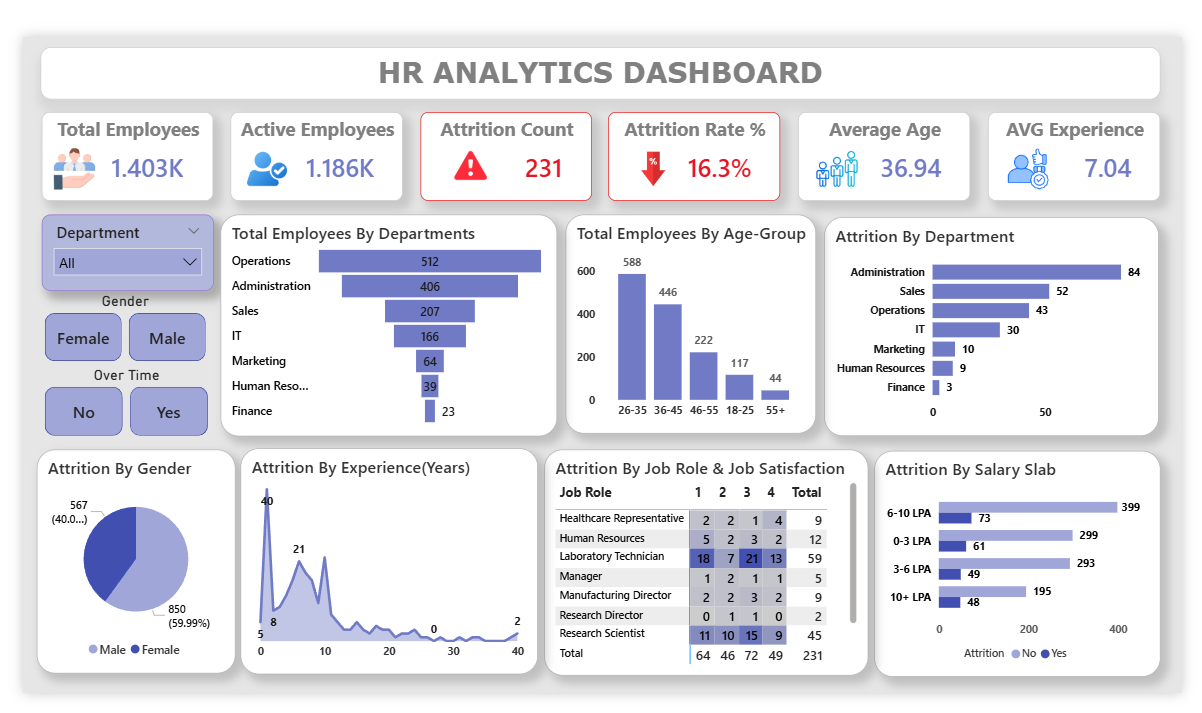

This screenshot's page, from the dashboard's own definition file:
{"tool":"powerbi","page":{"name":"Page 1","canvas":[1324,750],"ordinal":0},"visuals":[{"type":"textbox","box":[20,11.4,1280,60],"z":0},{"type":"cardVisual","title":"Total Employees","fields":{"Data":["Count(HR_Analytics-Dataset.Emp_id)"]},"box":[21.4,85.7,195.9,101.4],"z":1000,"group":"g1"},{"type":"barChart","title":"Attrition By Department ","fields":{"Category":["HR_Analytics-Dataset.Department"],"Y":["Sum(HR_Analytics-Dataset.Attrition_Count)"]},"box":[916.1,206.8,382.8,250],"z":1000,"group":"g2"},{"type":"slicer","fields":{"Values":["HR_Analytics-Dataset.Department"]},"box":[12.1,206.9,196.6,91.4],"z":1000},{"type":"group","id":"g1","title":"Group 1","box":[21.4,85.7,1278.6,101.4],"z":2000},{"type":"cardVisual","title":"Active Employees","fields":{"Data":["CountNonNull(HR_Analytics-Dataset.Employee_Count)"]},"box":[236.9,85.7,197.2,101.4],"z":2000,"group":"g1"},{"type":"clusteredBarChart","title":"Attrition By Salary Slab","fields":{"Category":["HR_Analytics-Dataset.Salary_Slab"],"Y":["CountNonNull(HR_Analytics-Dataset.Emp_id)"],"Series":["HR_Analytics-Dataset.Attrition"]},"box":[972.8,474.1,327.6,258.6],"z":2000,"group":"g3"},{"type":"cardVisual","title":"Attrition Count","fields":{"Data":["Sum(HR_Analytics-Dataset.Attrition_Count)"]},"box":[453.7,85.7,195.9,101.4],"z":3000,"group":"g1"},{"type":"group","id":"g2","title":"Group 2","box":[225.9,203.4,1072.4,253.4],"z":3000},{"type":"pivotTable","title":"Attrition By Job Role & Job Satisfaction","fields":{"Rows":["HR_Analytics-Dataset.Job_Role"],"Values":["Sum(HR_Analytics-Dataset.Attrition_Count)"],"Columns":["HR_Analytics-Dataset.Job_Satisfaction"]},"box":[594.6,472.4,370.7,258.6],"z":3000,"group":"g3"},{"type":"cardVisual","title":"Attrition Rate %","fields":{"Data":["HR_Analytics-Dataset.Attrition_Rate"]},"box":[669.2,85.7,197.2,101.4],"z":4000,"group":"g1"},{"type":"columnChart","title":"Total Employees By Age-Group","fields":{"Category":["HR_Analytics-Dataset.AgeGroup"],"Y":["Sum(HR_Analytics-Dataset.Employee_Count)"]},"box":[620.2,203.4,286.2,250],"z":4000,"group":"g2"},{"type":"group","id":"g3","title":"Group 3","box":[12.1,470.7,1287.9,262.1],"z":4000},{"type":"advancedSlicerVisual","fields":{"Values":["HR_Analytics-Dataset.Gender"]},"box":[12,312,205.3,145.3],"z":4001},{"type":"cardVisual","title":"Average Age","fields":{"Data":["Avg(HR_Analytics-Dataset.Age)"]},"box":[886,85.7,197.2,101.4],"z":5000,"group":"g1"},{"type":"pieChart","title":"Attrition By Gender","fields":{"Category":["HR_Analytics-Dataset.Gender"],"Y":["Sum(HR_Analytics-Dataset.Employee_Count)"]},"box":[12.1,470.7,229.3,258.6],"z":5000,"group":"g3"},{"type":"cardVisual","title":"AVG Experience","fields":{"Data":["Avg(HR_Analytics-Dataset.Years_at_Company)"]},"box":[1102.8,85.7,197.2,101.4],"z":6000,"group":"g1"},{"type":"areaChart","title":"Attrition By Experience(Years)","fields":{"Category":["HR_Analytics-Dataset.Total_Experience(Years)"],"Y":["Sum(HR_Analytics-Dataset.Attrition_Count)"]},"box":[247.5,470.7,339.7,258.6],"z":6000,"group":"g3"},{"type":"image","box":[32.8,126.5,52.2,47],"z":7000,"group":"g1"},{"type":"funnel","title":"Total Employees By Departments","fields":{"Category":["HR_Analytics-Dataset.Department"],"Y":["CountNonNull(HR_Analytics-Dataset.Emp_id)"]},"box":[225.9,203.4,384.5,253.4],"z":7000,"group":"g2"},{"type":"image","box":[252.9,126.5,52.2,47],"z":8000,"group":"g1"},{"type":"image","box":[479.7,126,48.5,38.7],"z":9000,"group":"g1"},{"type":"image","box":[694.4,126.5,52.2,47],"z":10000,"group":"g1"},{"type":"image","box":[904.3,126.5,52.2,47],"z":11000,"group":"g1"},{"type":"image","box":[1123.1,126.5,52.2,47],"z":12000,"group":"g1"}]}

Visuals, with their boxes on the page's 1324x750 design canvas (x1, y1, x2, y2). These are canvas units, not pixel positions in the 1202x713 screenshot, which may show the page scaled, cropped or inside an application window:
textbox: select_region(20, 11, 1300, 71)
"Total Employees" cardVisual: select_region(21, 86, 217, 187)
"Attrition By Department " barChart: select_region(916, 207, 1299, 457)
slicer - HR_Analytics-Dataset.Department: select_region(12, 207, 209, 298)
"Group 1" group: select_region(21, 86, 1300, 187)
"Active Employees" cardVisual: select_region(237, 86, 434, 187)
"Attrition By Salary Slab" clusteredBarChart: select_region(973, 474, 1300, 733)
"Attrition Count" cardVisual: select_region(454, 86, 650, 187)
"Group 2" group: select_region(226, 203, 1298, 457)
"Attrition By Job Role & Job Satisfaction" pivotTable: select_region(595, 472, 965, 731)
"Attrition Rate %" cardVisual: select_region(669, 86, 866, 187)
"Total Employees By Age-Group" columnChart: select_region(620, 203, 906, 453)
"Group 3" group: select_region(12, 471, 1300, 733)
advancedSlicerVisual - HR_Analytics-Dataset.Gender: select_region(12, 312, 217, 457)
"Average Age" cardVisual: select_region(886, 86, 1083, 187)
"Attrition By Gender" pieChart: select_region(12, 471, 241, 729)
"AVG Experience" cardVisual: select_region(1103, 86, 1300, 187)
"Attrition By Experience(Years)" areaChart: select_region(248, 471, 587, 729)
image: select_region(33, 126, 85, 174)
"Total Employees By Departments" funnel: select_region(226, 203, 610, 457)
image: select_region(253, 126, 305, 174)
image: select_region(480, 126, 528, 165)
image: select_region(694, 126, 747, 174)
image: select_region(904, 126, 956, 174)
image: select_region(1123, 126, 1175, 174)
